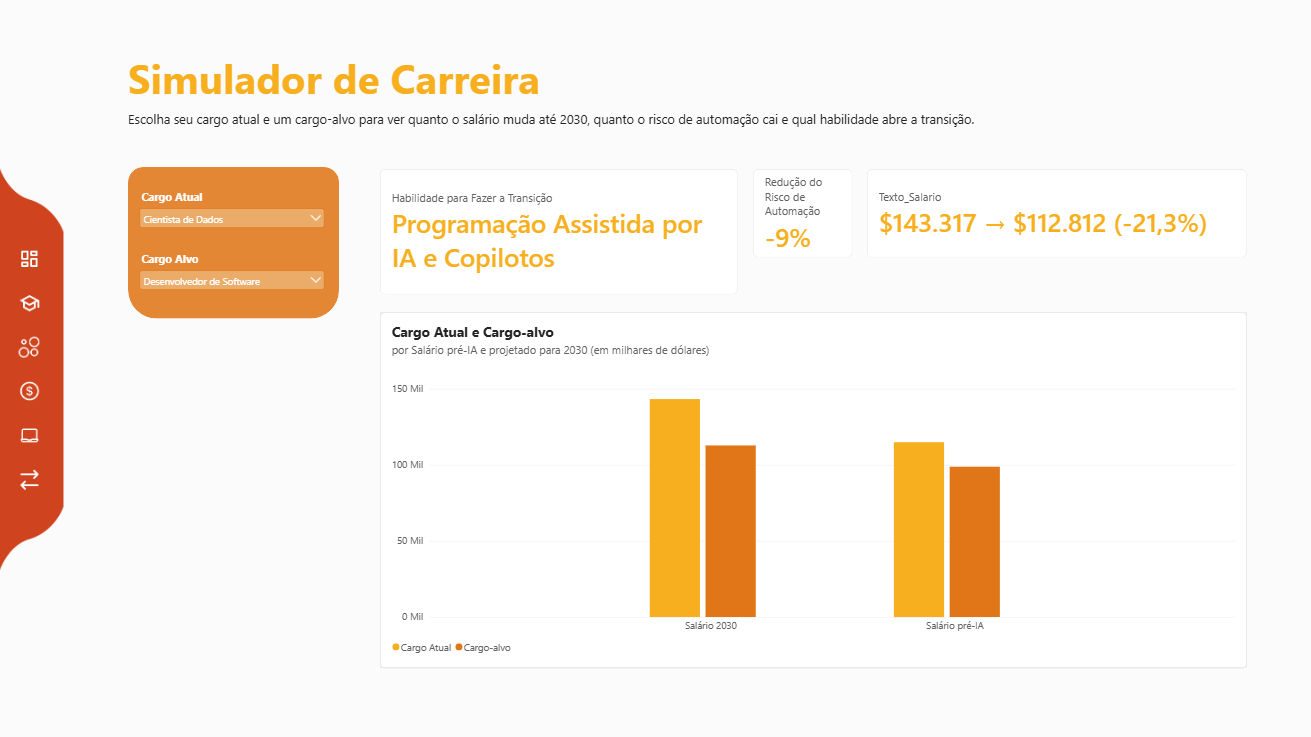

This screenshot's page, from the dashboard's own definition file:
{"tool":"powerbi","page":{"name":"Simulador de Carreira","canvas":[1920,1080],"ordinal":5},"visuals":[{"type":"shape","box":[190.7,245.3,308,221.3],"z":0,"group":"g2"},{"type":"cardVisual","fields":{"Data":["Medidas Gerais.Texto_Salario"]},"box":[1269.3,245.3,554.7,132],"z":0},{"type":"cardVisual","fields":{"Data":["Medidas Gerais.Reducao_Risco_pp"]},"box":[1102.7,245.3,145.3,132],"z":1000},{"type":"slicer","fields":{"Values":["dim_cargo.Job_Title"]},"box":[202.7,277,280,76],"z":1000,"group":"g2"},{"type":"cardVisual","fields":{"Data":["Medidas Gerais.Skill_Alvo"]},"box":[558.7,245.3,522.7,186.7],"z":2000},{"type":"slicer","fields":{"Values":["dim_cargo_alvo.Cargo_Alvo"]},"box":[202.7,368.4,280,64],"z":2000,"group":"g2"},{"type":"clusteredColumnChart","fields":{"Category":["Metrica_Sim.Metrica"],"Y":["Medidas Gerais.Valor_Atual","Medidas Gerais.Valor_Alvo"]},"box":[558.7,456,1265.3,520],"z":3000},{"type":"group","id":"g1","title":"Grupo 1","box":[0,132.9,97.1,814.3],"z":4000},{"type":"textbox","box":[190.7,76,650.7,86.7],"z":5000},{"type":"textbox","box":[190.7,162.7,1477.3,52],"z":6000},{"type":"group","id":"g2","title":"Grupo 2","box":[190.7,245.3,308,221.3],"z":7000},{"type":"image","box":[0,132.9,97.1,814.3],"z":9000,"group":"g1"},{"type":"actionButton","box":[17.1,417.2,61.4,52.9],"z":10000,"group":"g1"},{"type":"actionButton","box":[17.1,482.9,61.4,52.9],"z":11000,"group":"g1"},{"type":"actionButton","box":[17.1,547.2,61.4,52.9],"z":12000,"group":"g1"},{"type":"actionButton","box":[17.1,611.5,61.4,52.9],"z":13000,"group":"g1"},{"type":"actionButton","box":[17.1,674.3,61.4,52.9],"z":14000,"group":"g1"},{"type":"actionButton","box":[17.1,351.5,61.4,52.9],"z":15000,"group":"g1"}]}

Visuals, with their boxes on the page's 1920x1080 design canvas (x1, y1, x2, y2). These are canvas units, not pixel positions in the 1311x737 screenshot, which may show the page scaled, cropped or inside an application window:
shape: BBox(191, 245, 499, 467)
cardVisual - Medidas Gerais.Texto_Salario: BBox(1269, 245, 1824, 377)
cardVisual - Medidas Gerais.Reducao_Risco_pp: BBox(1103, 245, 1248, 377)
slicer - dim_cargo.Job_Title: BBox(203, 277, 483, 353)
cardVisual - Medidas Gerais.Skill_Alvo: BBox(559, 245, 1081, 432)
slicer - dim_cargo_alvo.Cargo_Alvo: BBox(203, 368, 483, 432)
clusteredColumnChart - Metrica_Sim.Metrica x Medidas Gerais.Valor_Atual: BBox(559, 456, 1824, 976)
"Grupo 1" group: BBox(0, 133, 97, 947)
textbox: BBox(191, 76, 841, 163)
textbox: BBox(191, 163, 1668, 215)
"Grupo 2" group: BBox(191, 245, 499, 467)
image: BBox(0, 133, 97, 947)
actionButton: BBox(17, 417, 78, 470)
actionButton: BBox(17, 483, 78, 536)
actionButton: BBox(17, 547, 78, 600)
actionButton: BBox(17, 612, 78, 664)
actionButton: BBox(17, 674, 78, 727)
actionButton: BBox(17, 352, 78, 404)
